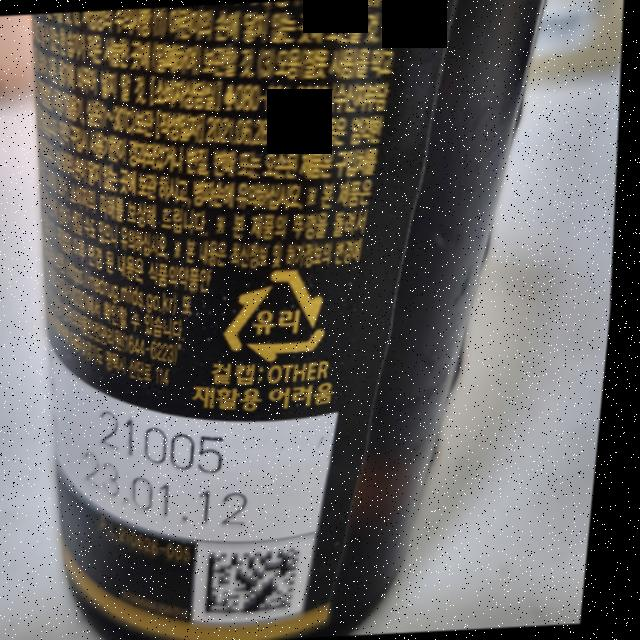Glass: (221, 268, 342, 364)
